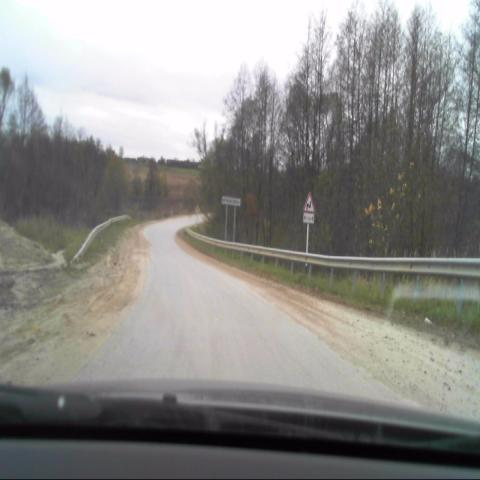1_12: (302, 192, 314, 213)
